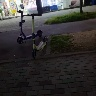beam: (15, 9, 43, 45)
gcooter: (23, 13, 50, 60)
